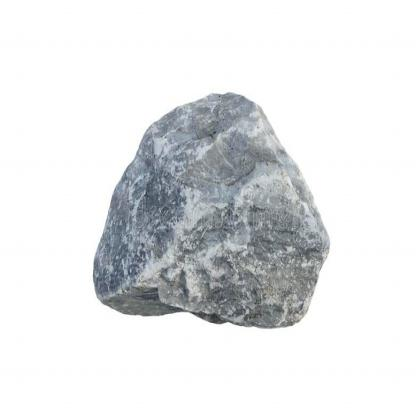Sedimentary_Limestone: (86, 88, 332, 334)
